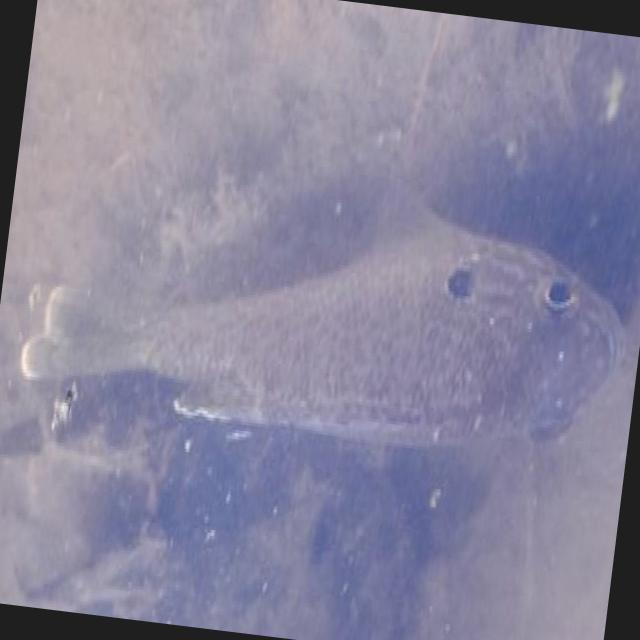Gunes Levregi: (3, 133, 640, 501)
